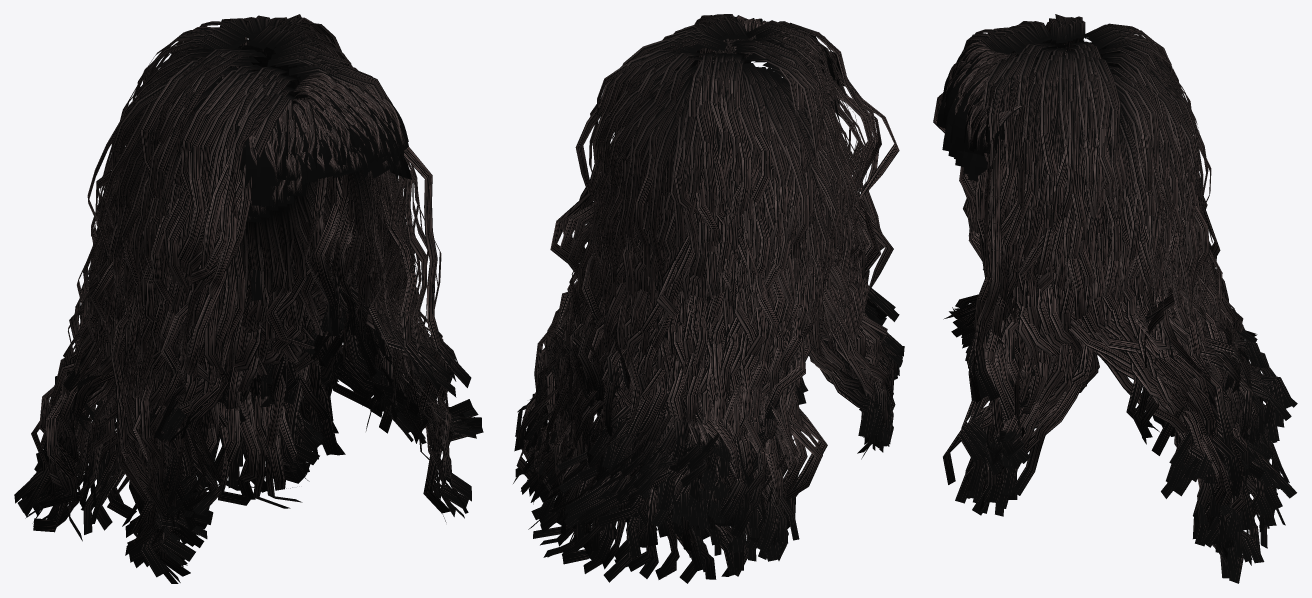
Rendered from Hair04.fbx.
The picture shows the model from 3 angles, left to right: view 1: azimuth 30°, elevation 25°; view 2: azimuth 150°, elevation 25°; view 3: azimuth 270°, elevation 25°; orthographic projection. The views are drawn at different scales.
Parts seen in each view (by area): view 1: hair4; view 2: hair4; view 3: hair4.
Boxes of the visible parts, x1=… form: hair4: x1=14, y1=14, x2=483, y2=583; hair4: x1=513, y1=14, x2=904, y2=583; hair4: x1=933, y1=14, x2=1297, y2=583.
Size of the model in its own units: 32.42 by 50.84 by 33.77.
Materials: 1 (1 with a texture image).
